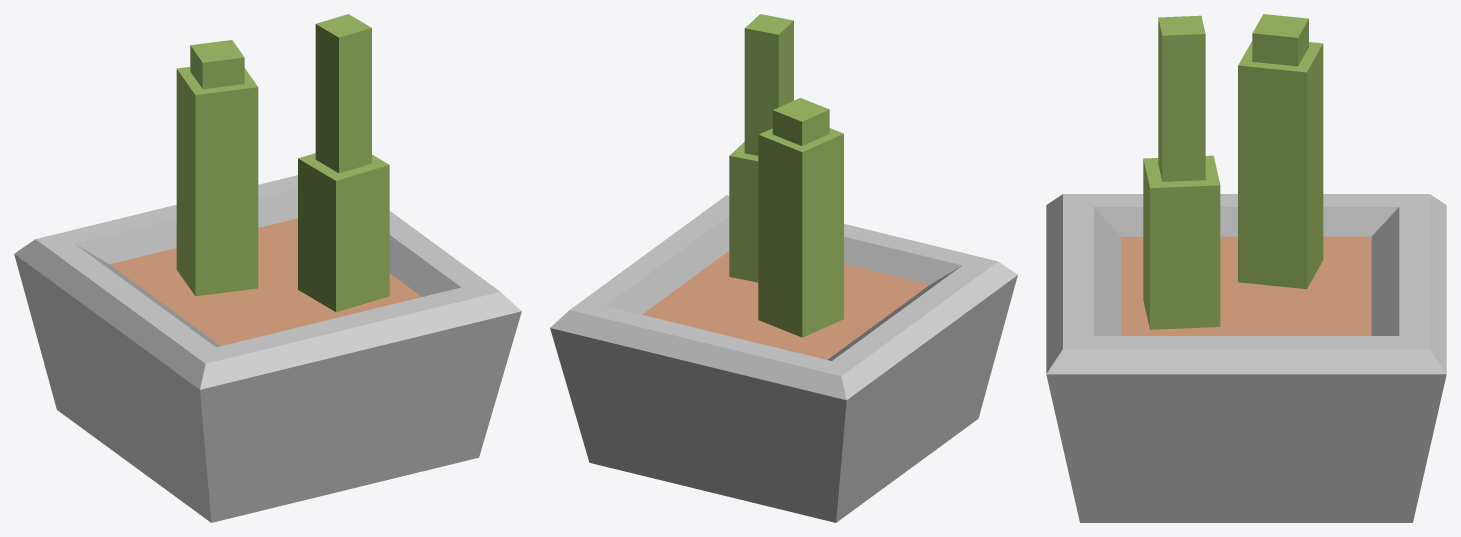
File: Deco.fbx
3 views of the same model, side by side, from view 1: azimuth 30°, elevation 25°; view 2: azimuth 150°, elevation 25°; view 3: azimuth 270°, elevation 25° (orthographic). The views are drawn at different scales.
Parts seen in each view (by area): view 1: Deco; view 2: Deco; view 3: Deco.
Part boxes in pixels (bbox=[...]): Deco: bbox=[14, 14, 521, 522]; Deco: bbox=[550, 14, 1017, 522]; Deco: bbox=[1046, 14, 1446, 522].
Size of the model in its own units: 7.98 by 9.92 by 7.98.
